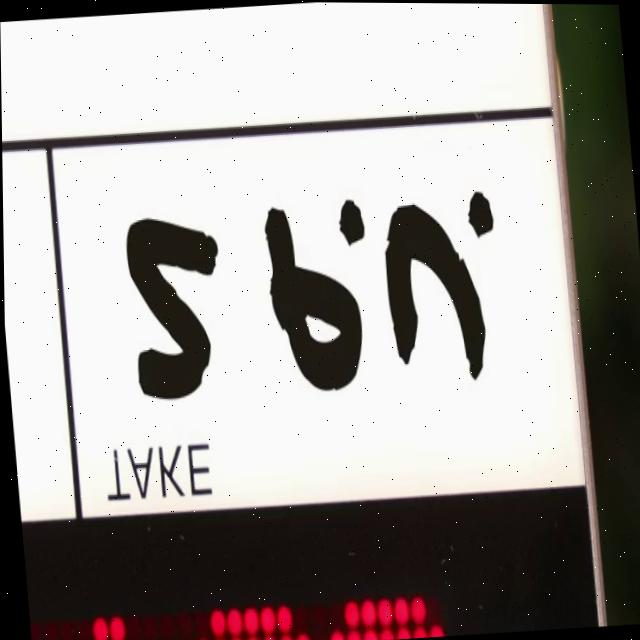Clapperboard: (0, 0, 607, 640)
